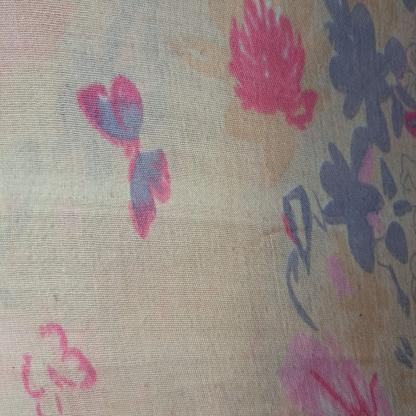spot: (358, 310, 366, 318)
